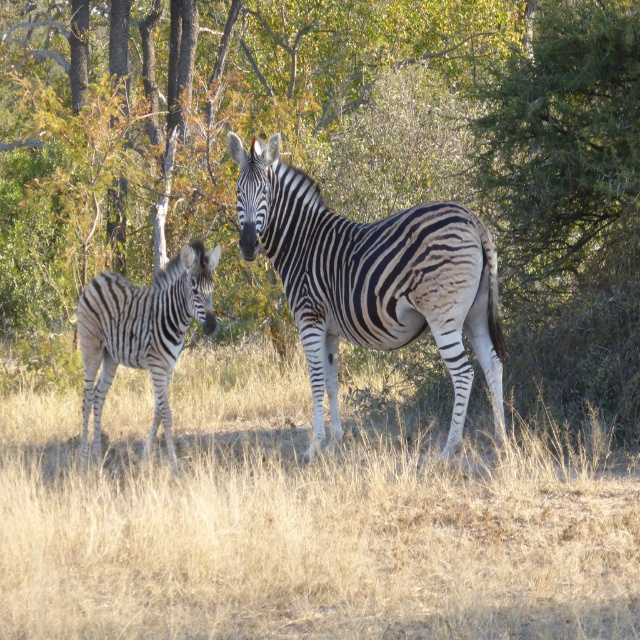Zebra: (227, 132, 508, 467), (75, 237, 222, 481)
